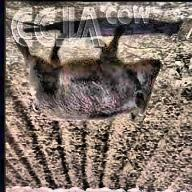boar: (1, 29, 178, 124)
